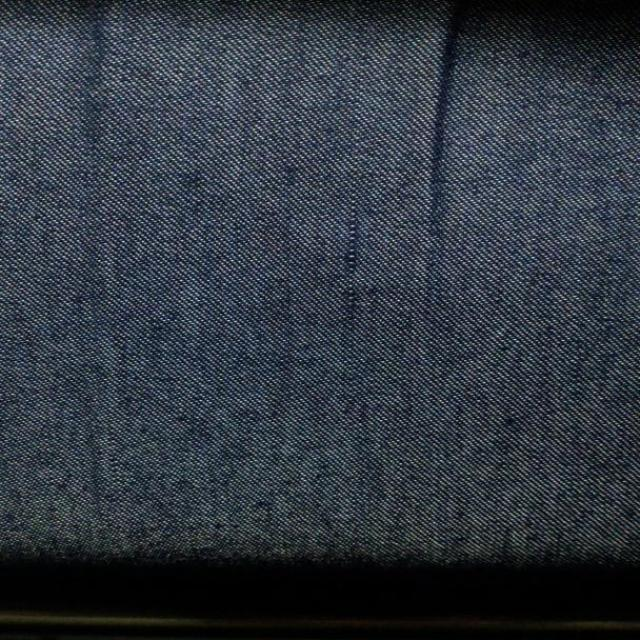defect: (426, 0, 478, 235)
